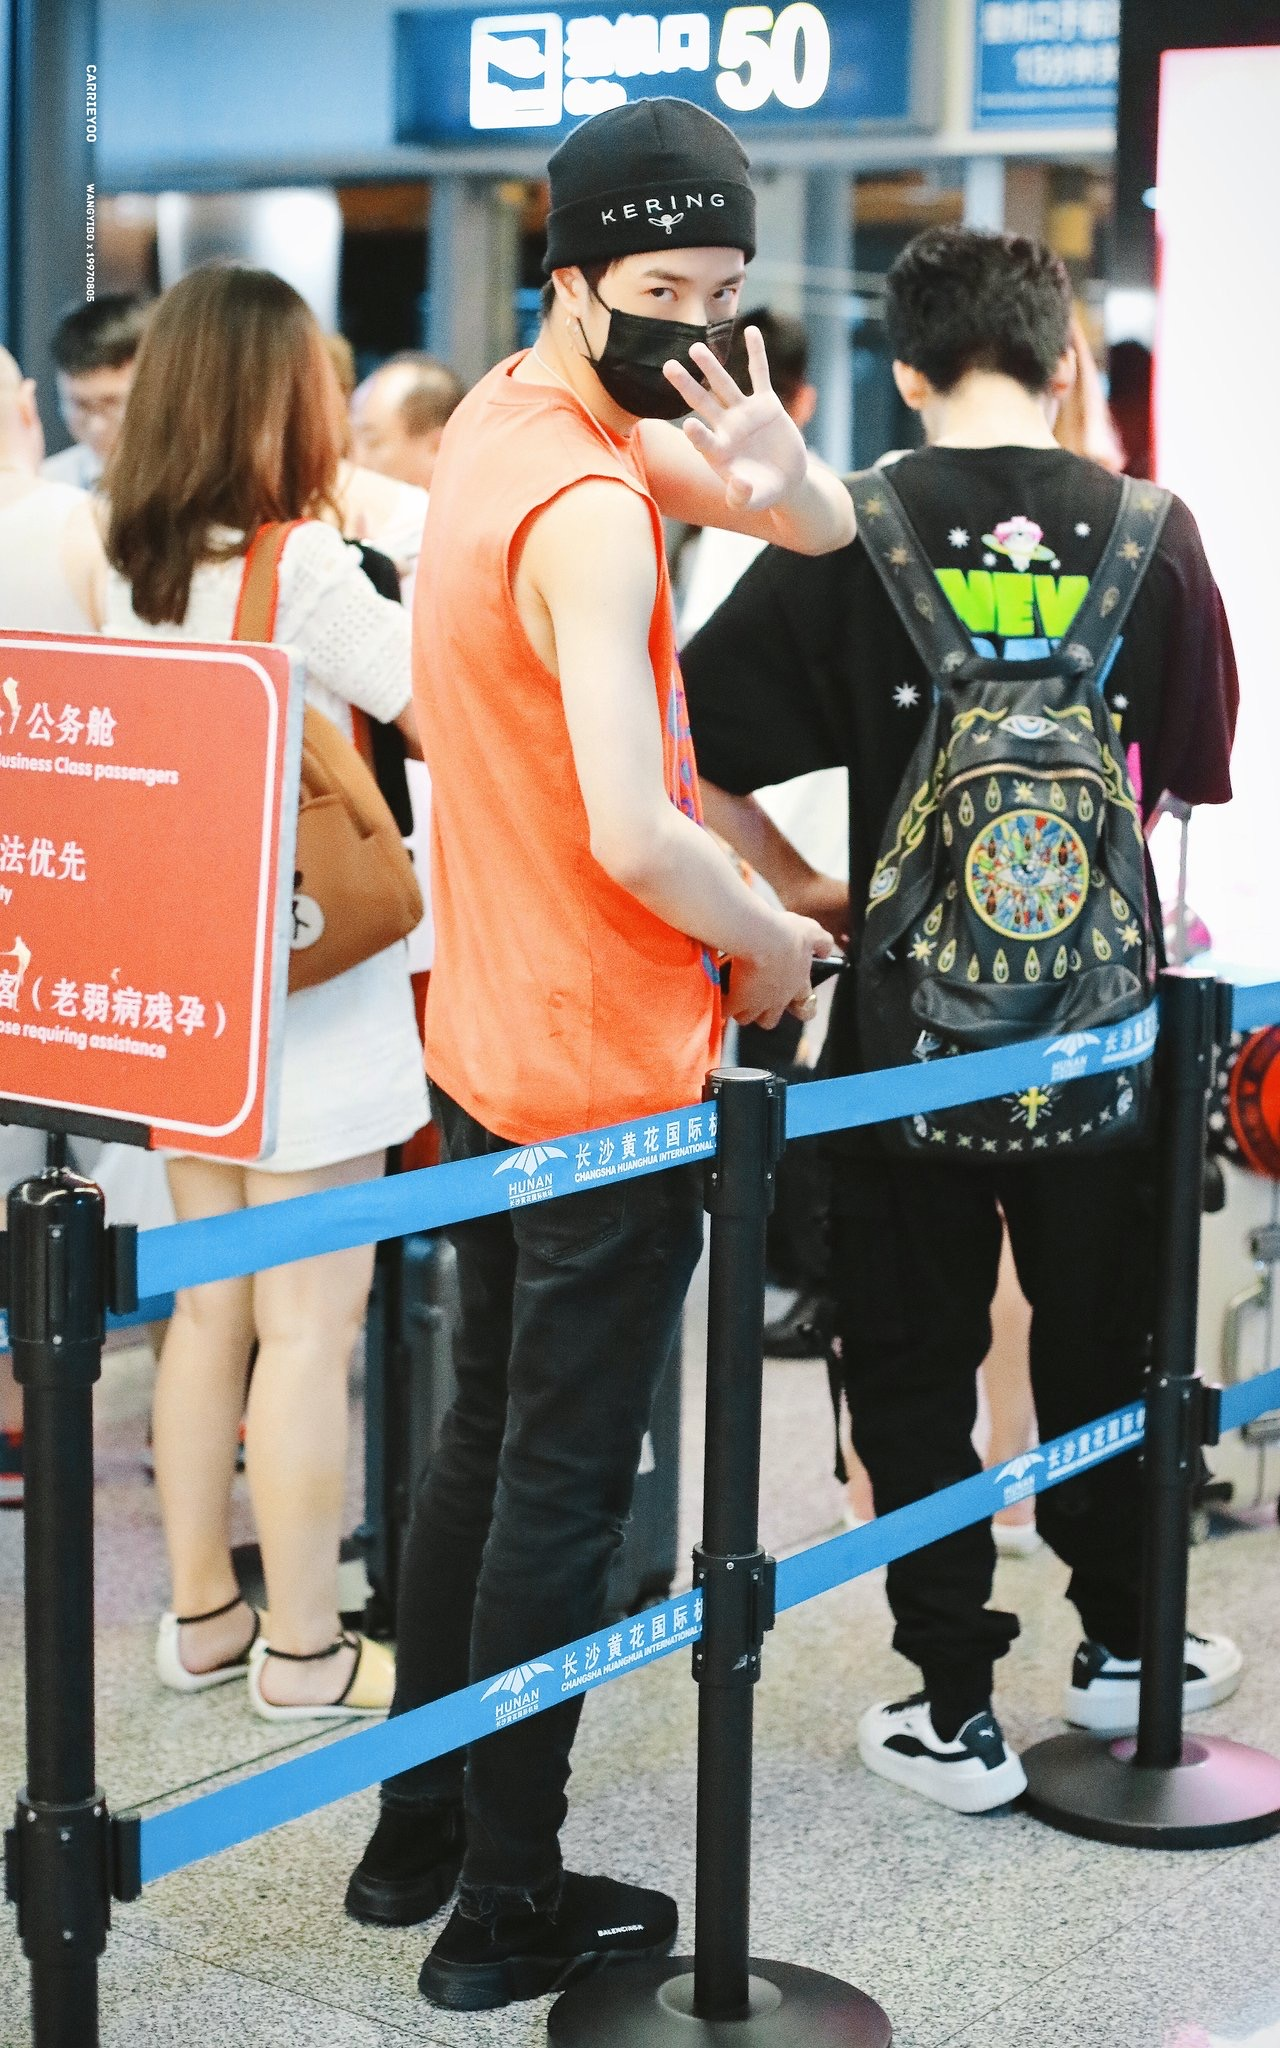backpack: (832, 477, 1157, 1198), (191, 617, 410, 1002)
people: (422, 73, 772, 2005), (813, 189, 1207, 1858), (88, 264, 425, 1723)
